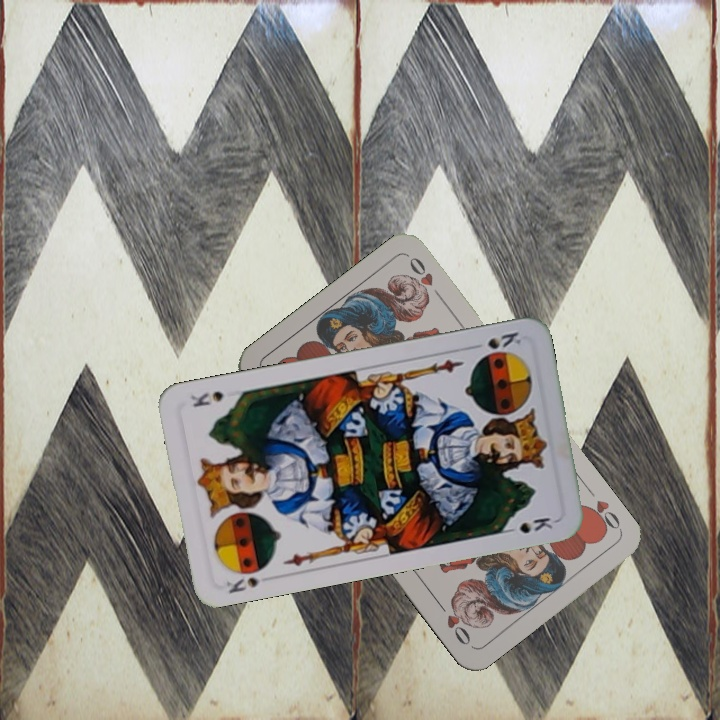HO: (580, 496, 624, 536)
SK: (466, 328, 525, 352), (223, 573, 262, 596)
